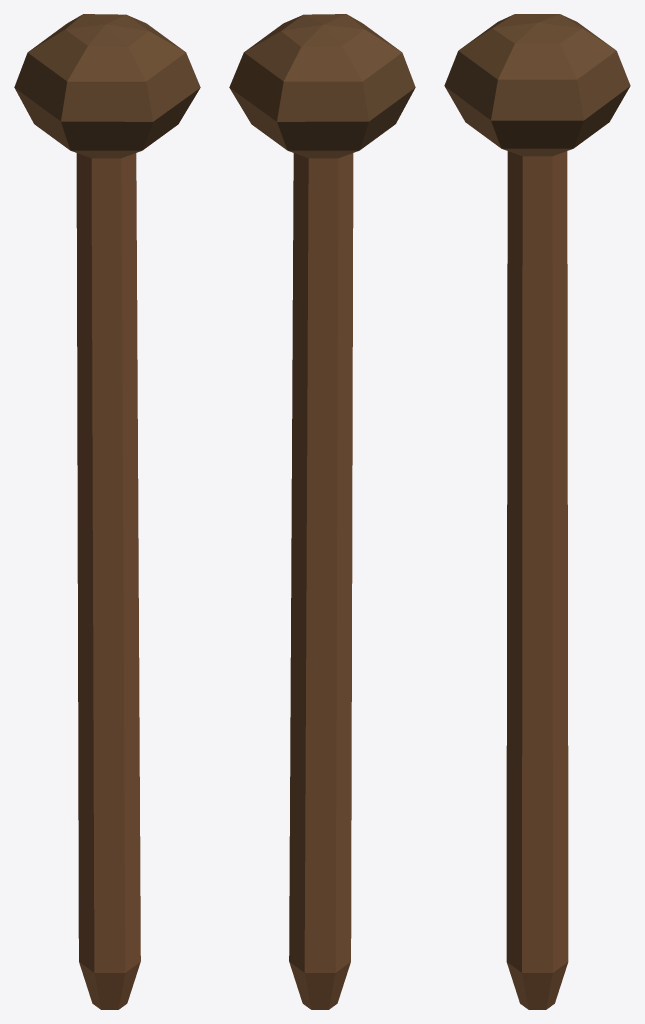
The model's file is club-zulu.glb.
3 renders of one model, left to right at view 1: azimuth 30°, elevation 25°; view 2: azimuth 150°, elevation 25°; view 3: azimuth 270°, elevation 25°, orthographic.
Parts seen in each view (by area): view 1: club-zulu; view 2: club-zulu; view 3: club-zulu.
Boxes of the visible parts, bbox=[...] form: club-zulu: bbox=[14, 14, 200, 1009]; club-zulu: bbox=[229, 14, 415, 1009]; club-zulu: bbox=[444, 14, 630, 1009].
Bounding box in the file's own units: 0.0832 × 0.5574 × 0.0961.
1 material, 1 textured.
